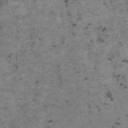oxide scale of temperature system: (88, 40, 128, 112), (52, 0, 107, 48), (6, 52, 20, 69), (112, 114, 128, 128), (48, 119, 54, 124), (34, 80, 40, 84), (83, 76, 88, 80), (66, 99, 70, 103), (42, 104, 46, 108), (0, 25, 3, 30)
